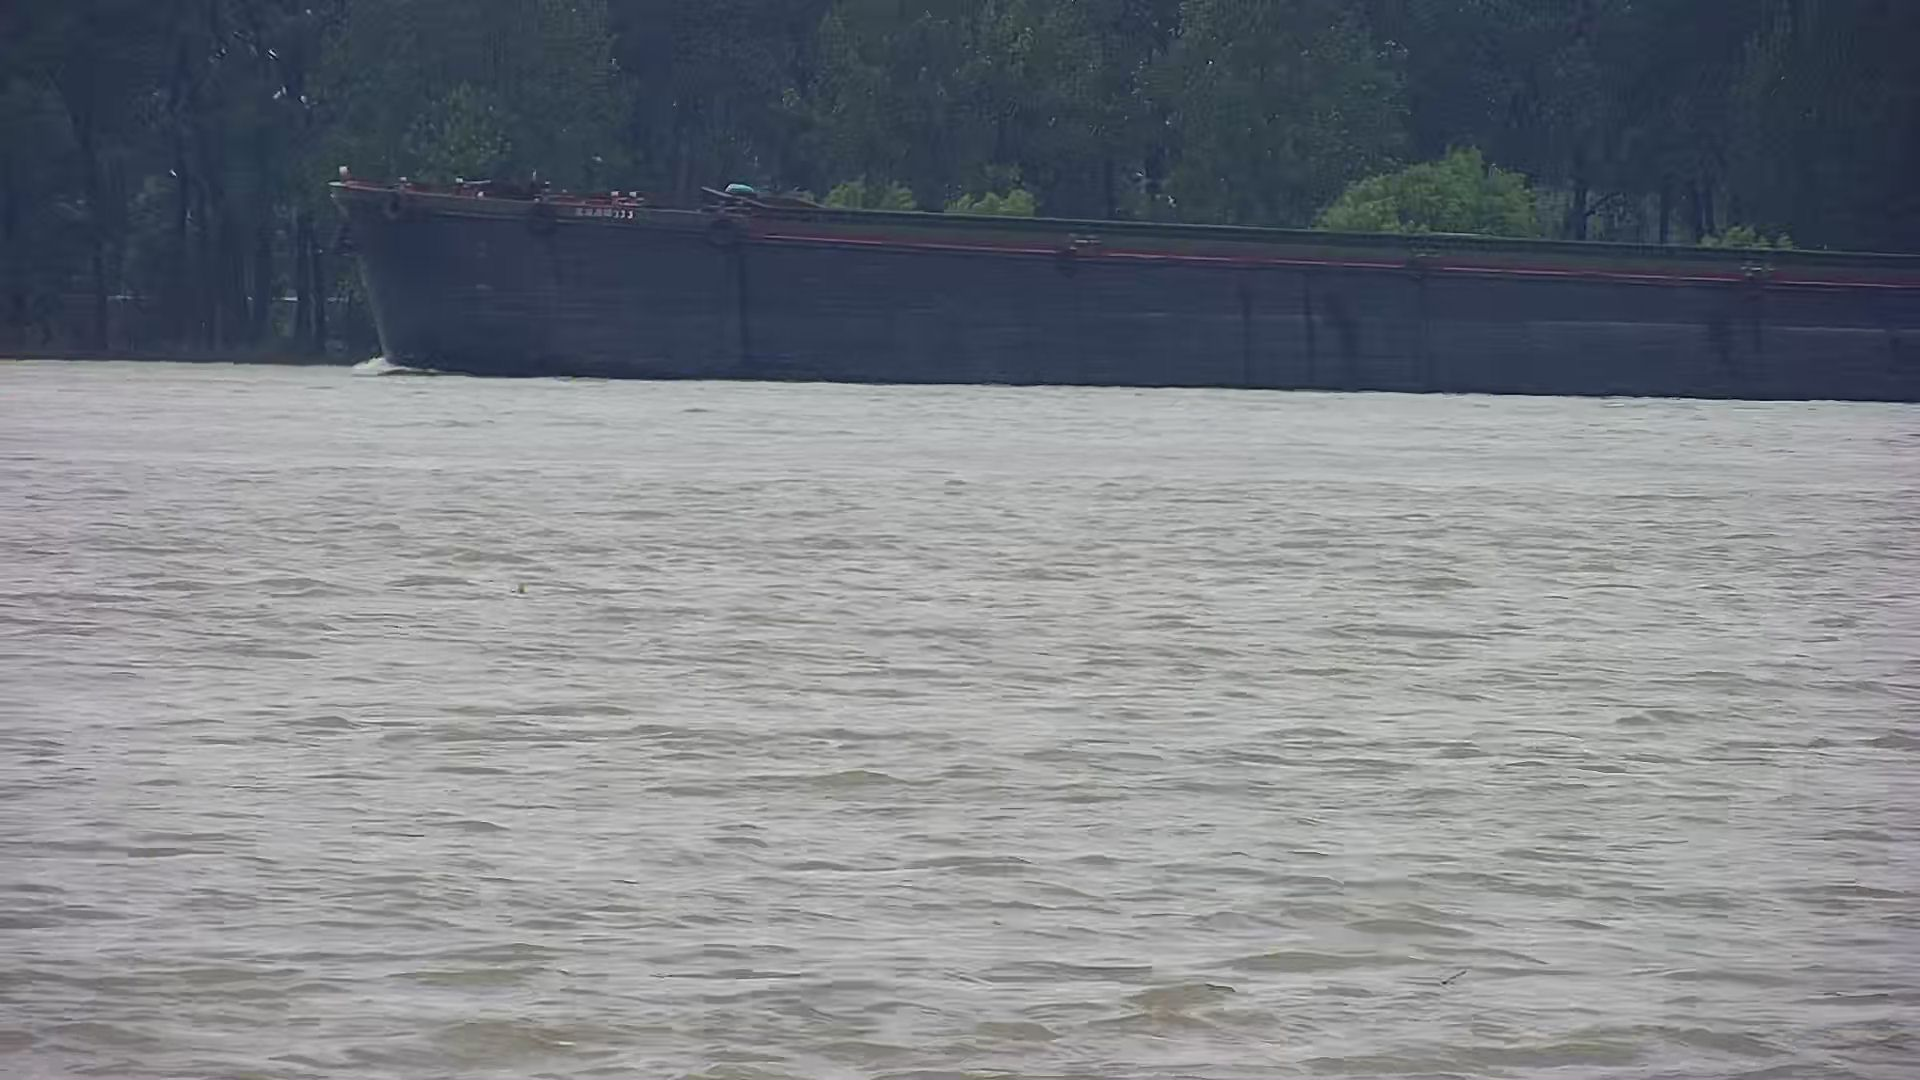ship: (323, 149, 1920, 413)
